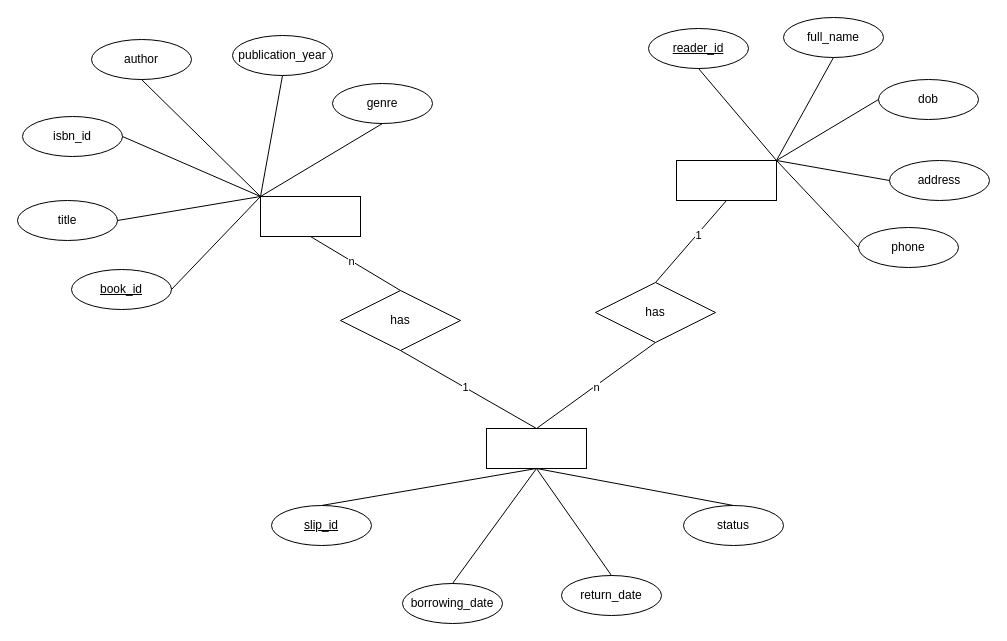
The diagram is 1007 pixels wide and 641 high, and some of its shapes have lost their labels. The shapes that lost their labels are listed below. From the top down, each one's box as (x1, y1, x2, y2) in pixels, then its label:
(676, 160, 776, 200): Reader
(260, 196, 360, 236): Book
(486, 428, 586, 468): Borrowing slip
